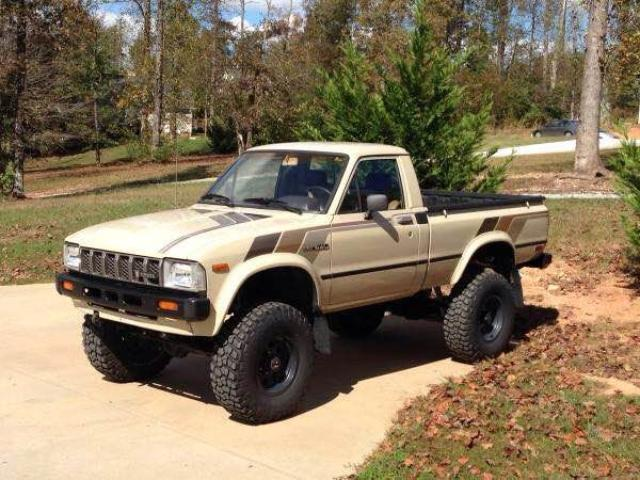pickup-truck: (53, 140, 553, 425)
